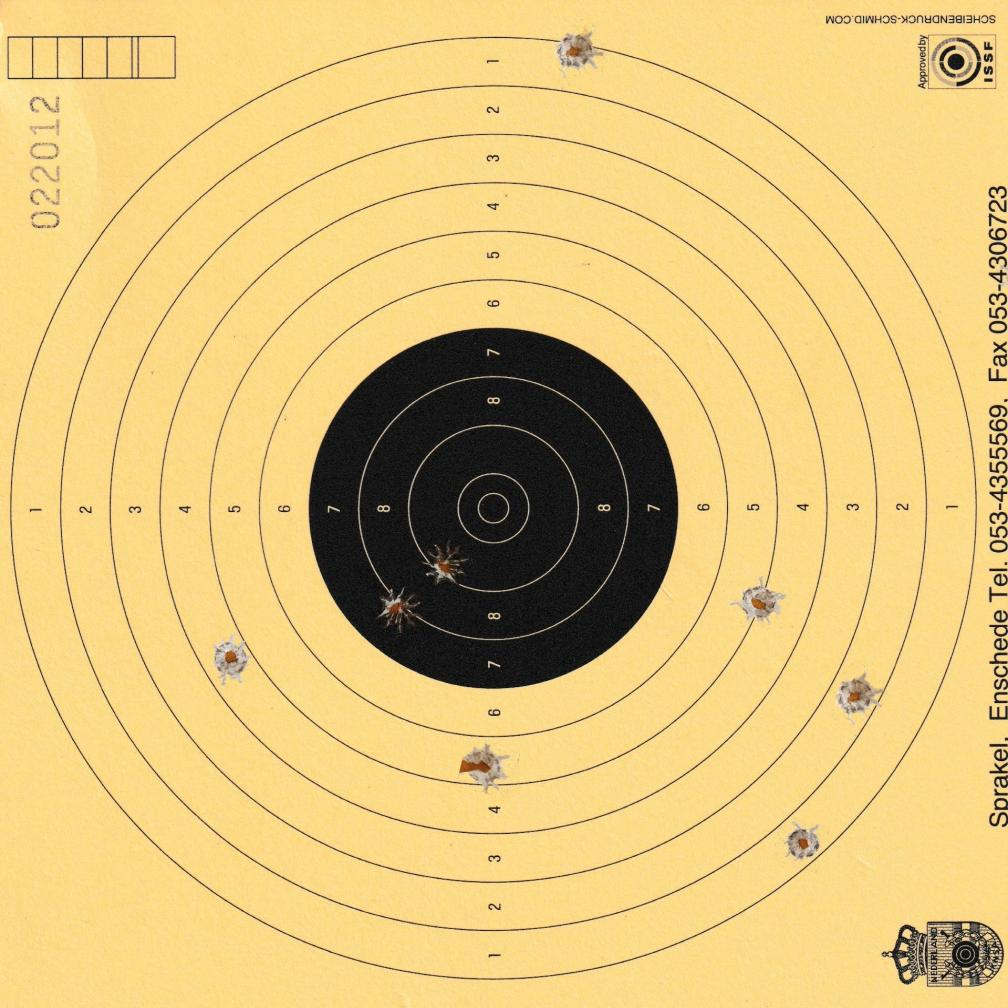1: (552, 26, 606, 80), (779, 818, 827, 866)
5: (457, 740, 515, 795), (733, 576, 790, 627), (208, 634, 256, 690), (835, 671, 887, 722)
8: (376, 582, 426, 638)
9: (416, 537, 475, 588)
Target: (11, 33, 977, 984)
black_contour: (311, 327, 680, 689)
